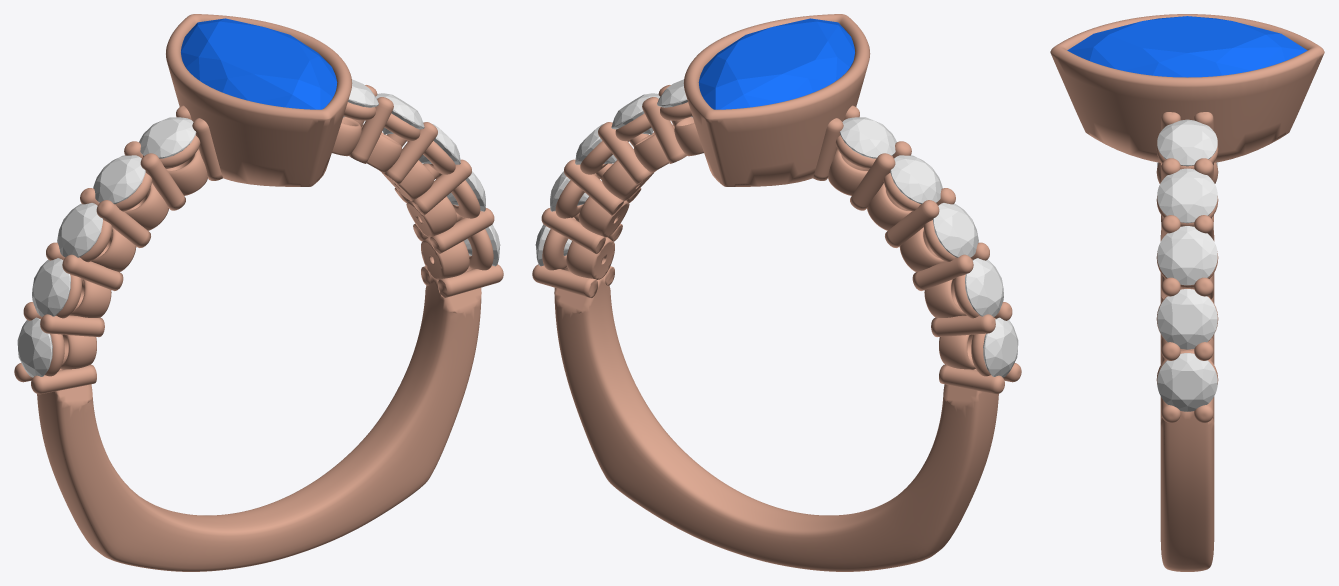
File: bluesapphire-marquise-rosegold-bezelset-europeanshank-11stone.glb
3 renders of one model, left to right at view 1: azimuth 30°, elevation 25°; view 2: azimuth 150°, elevation 25°; view 3: azimuth 270°, elevation 25°, orthographic.
Visible parts, largest first — view 1: metal.002, stone.002, side.022, side.023, side.021, side.024, side.020, side.028; view 2: metal.002, stone.002, side.022, side.023, side.021, side.024, side.020, side.028; view 3: metal.002, stone.002, side.026, side.027, side.025, side.028, side.029.
Boxes of the visible parts, x1,y1,x2,y2 form: metal.002: (14, 14, 503, 571); stone.002: (181, 18, 337, 109); side.022: (57, 203, 102, 257); side.023: (93, 155, 145, 204); side.021: (32, 258, 70, 316); side.024: (139, 117, 196, 158); side.020: (17, 317, 52, 377); side.028: (376, 93, 424, 134); metal.002: (532, 14, 1021, 571); stone.002: (698, 18, 854, 109); side.022: (933, 203, 978, 257); side.023: (890, 155, 942, 204); side.021: (965, 258, 1003, 316); side.024: (839, 117, 896, 158); side.020: (983, 317, 1018, 377); side.028: (611, 93, 659, 134); metal.002: (1050, 14, 1324, 571); stone.002: (1067, 16, 1307, 77); side.026: (1157, 289, 1217, 349); side.027: (1157, 226, 1217, 285); side.025: (1157, 353, 1217, 411); side.028: (1157, 168, 1217, 223); side.029: (1157, 119, 1217, 166).
Bounding box in the file's own units: 22.1 × 22.73 × 11.31.
